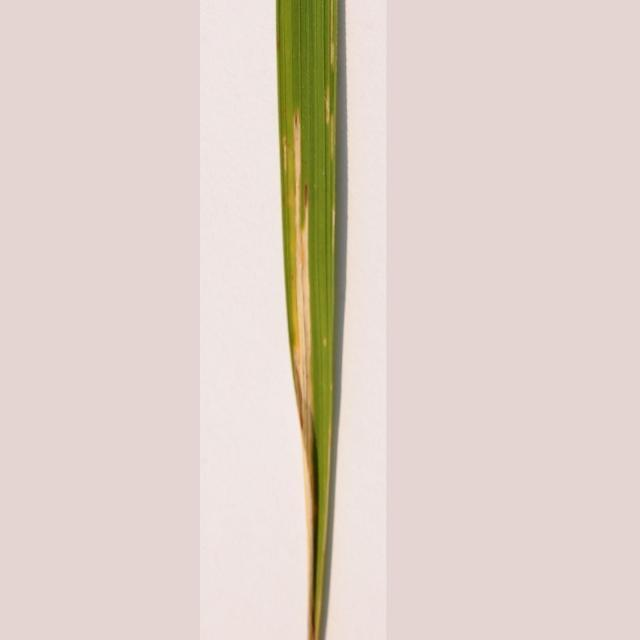Bacterial_Leaf_Blight: (279, 110, 327, 475)
